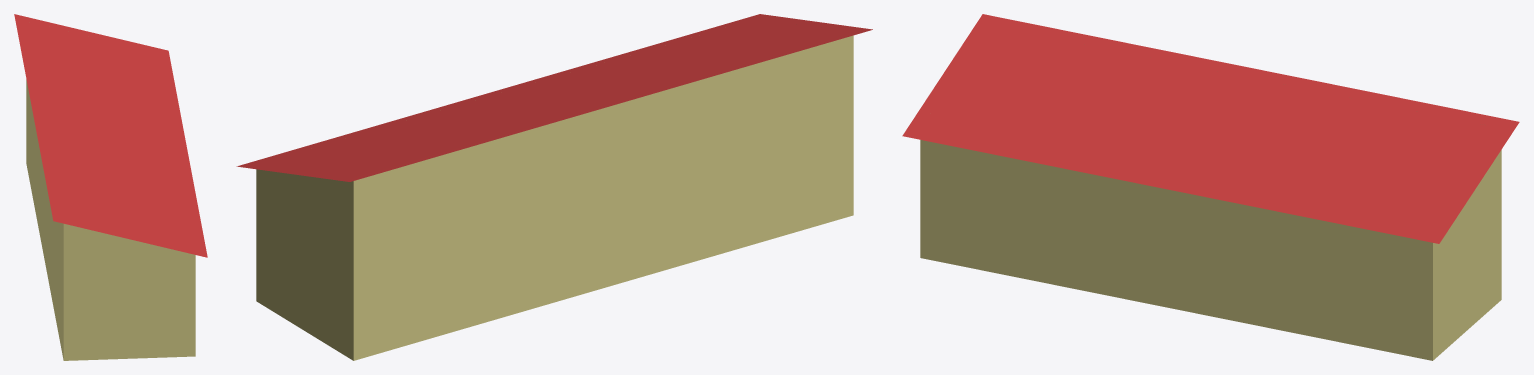
3 renders of one model, left to right at view 1: azimuth 30°, elevation 25°; view 2: azimuth 150°, elevation 25°; view 3: azimuth 270°, elevation 25°, orthographic. The views are drawn at different scales.
Bounding box in the file's own units: 15.6 × 22.69 × 7.1.
